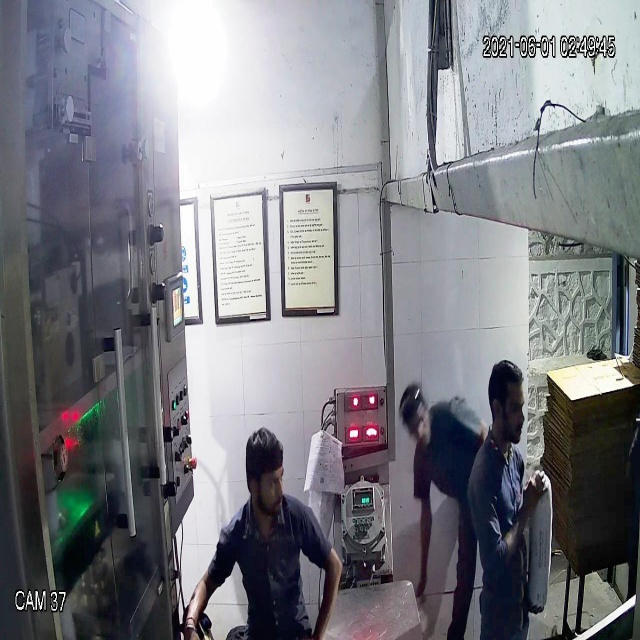Sin_gafas: (238, 462, 289, 500)
